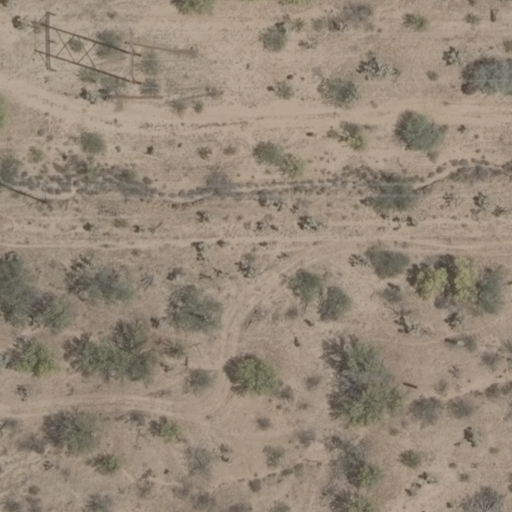DT: (110, 24, 163, 100), (29, 180, 59, 207)
